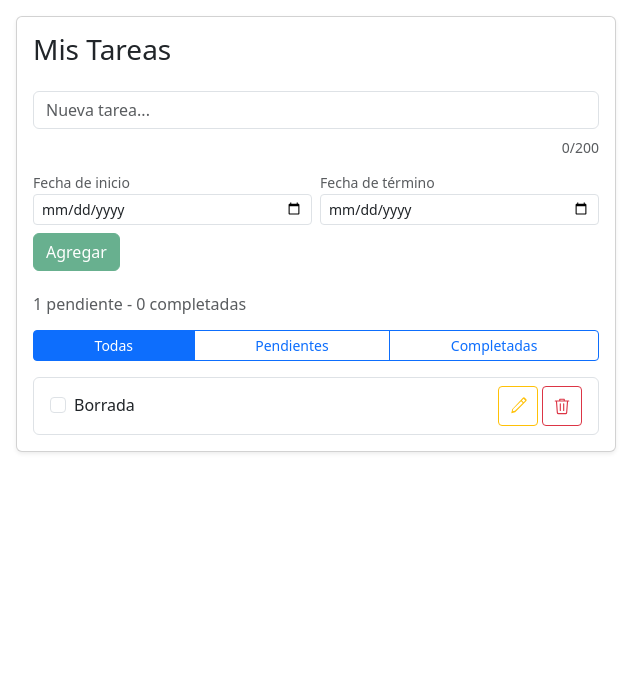
Scenario: removes a stale task when saving returns 404
This screenshot has width=633, height=688.
Click the button named "Modificar: Borrada".
click(518, 406)  # box [498, 386, 538, 426]
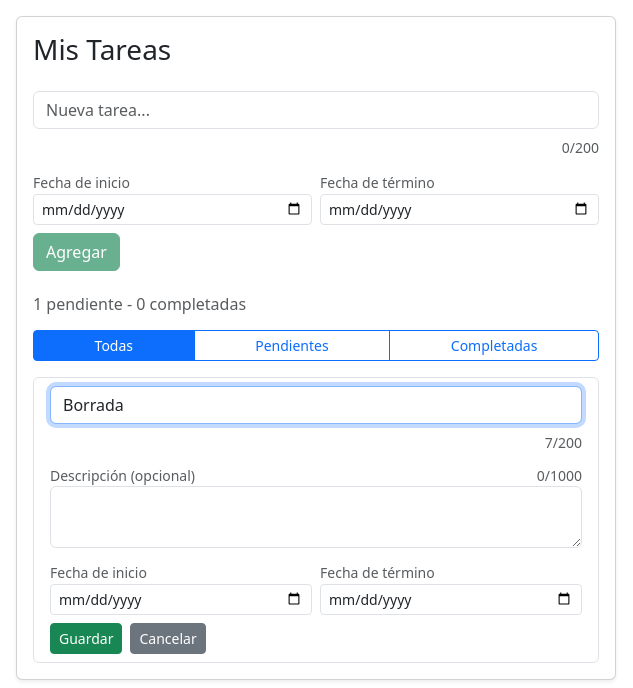
Click the button "Guardar".
click(86, 638)  # box [50, 623, 122, 654]
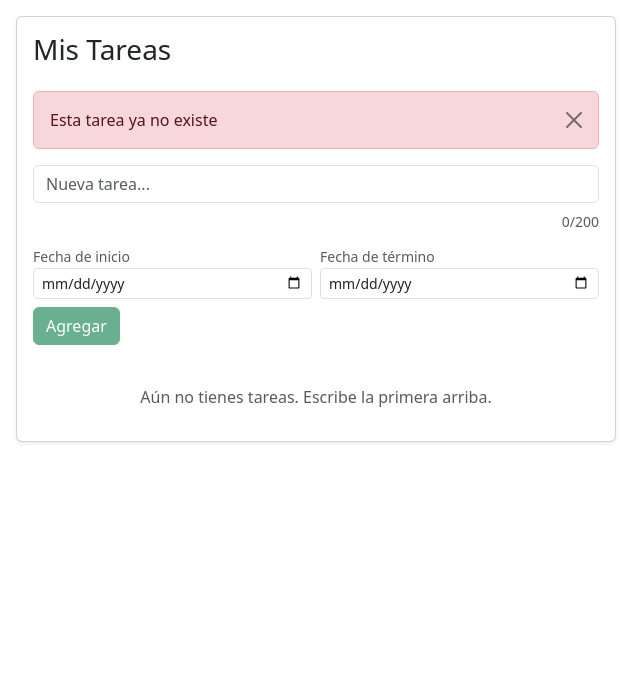
Now the text "Esta tarea ya no existe" is shown, box [33, 91, 599, 149]
Now the button "Guardar" is gone
